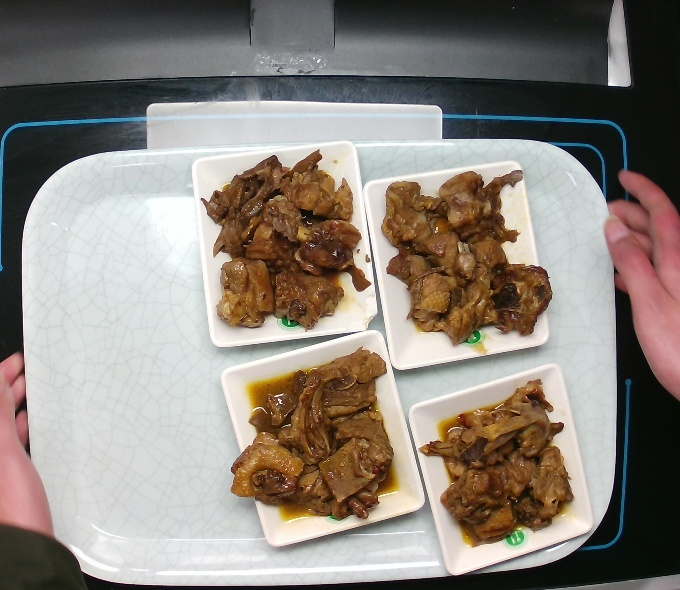wcq-HongShaoJi: (378, 149, 548, 354), (199, 139, 371, 336), (228, 338, 401, 530), (417, 372, 577, 546)
